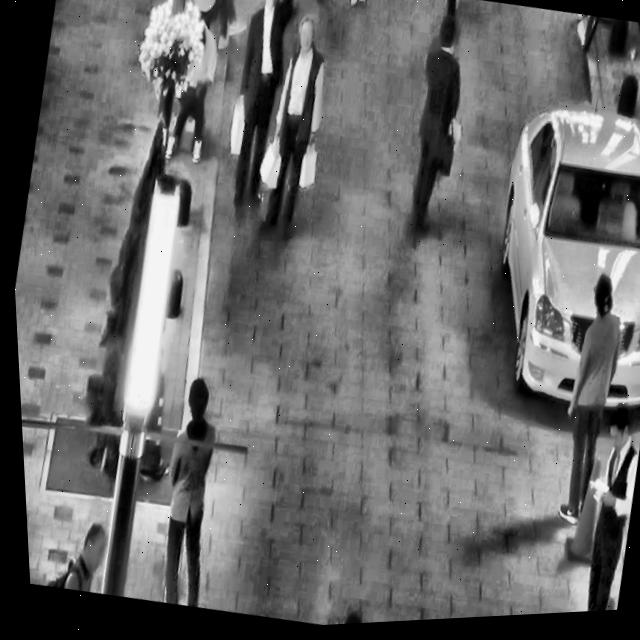light_vehicle: (455, 80, 640, 435)
